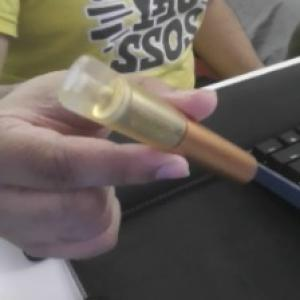Golden-E-Ciggirate: (56, 53, 259, 188)
